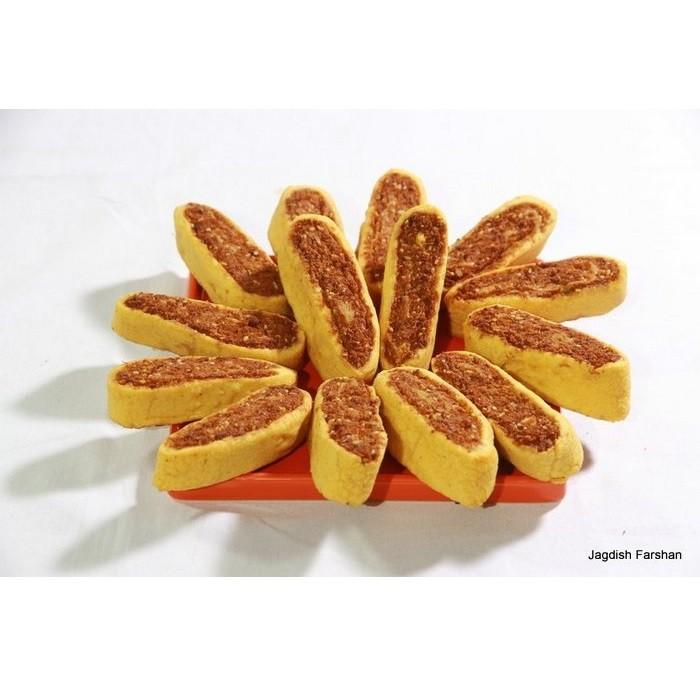bhakarwadi: (105, 174, 641, 516)
